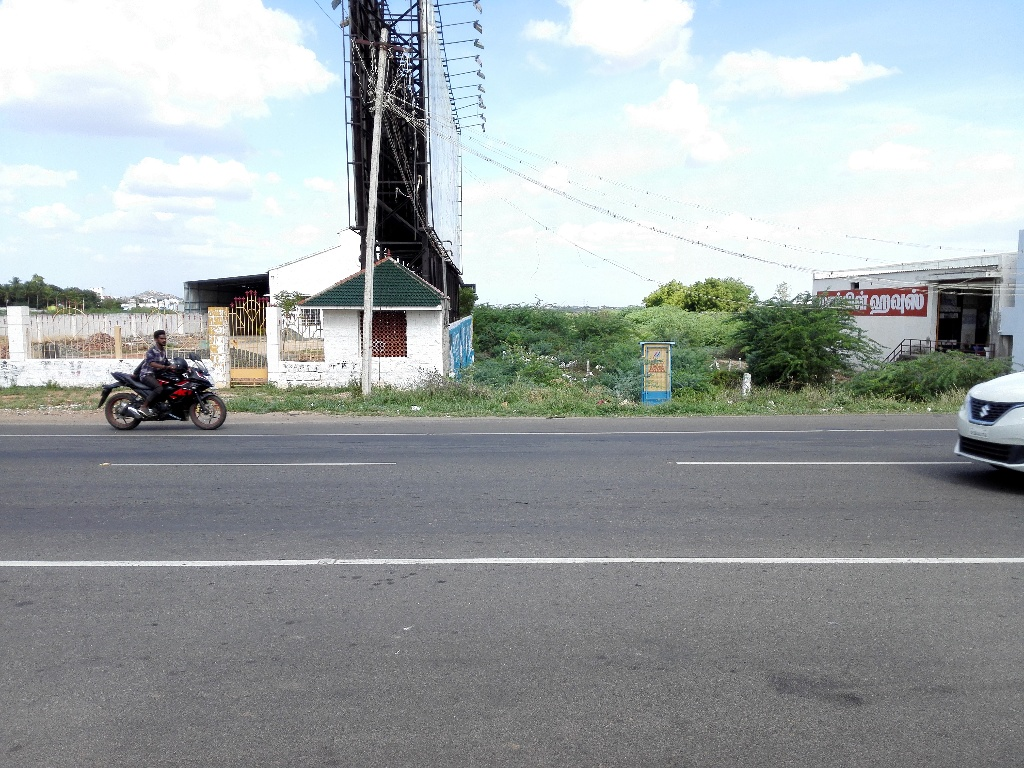biker: (90, 300, 240, 436)
nohelmet: (148, 322, 173, 356)
